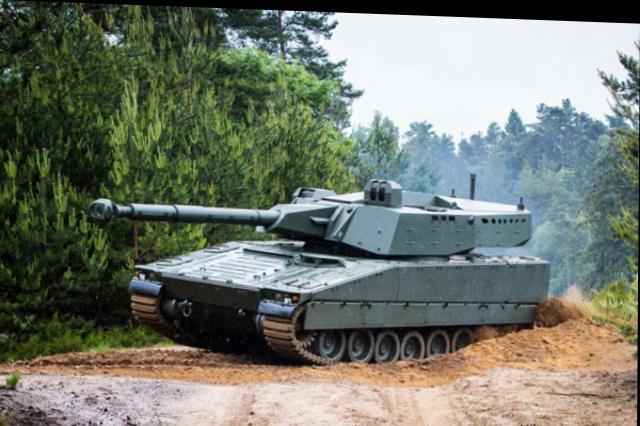tank: (126, 159, 555, 380)
